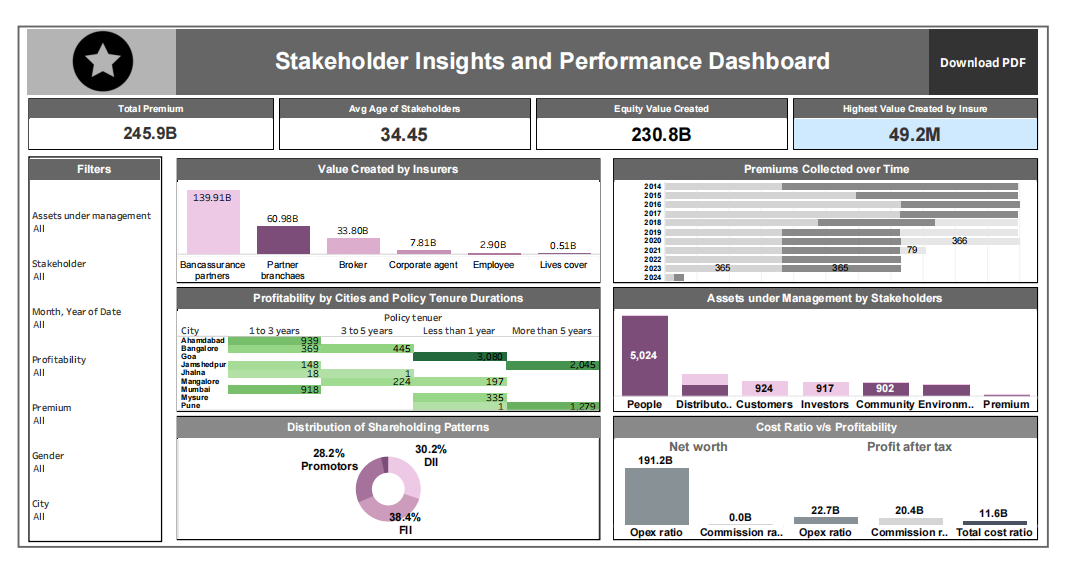

The page's visual inventory and layout, read from the dashboard file:
{"tool":"tableau","page":{"name":"Stakeholder Insights and Performance Dashboard","canvas":[1000,1000],"units":"permille","ordinal":0},"visuals":[{"type":"image","param":"Image/star.png","box":[10.3,20,149.1,122.2]},{"type":"text","box":[159.3,20,719.4,122.2]},{"type":"dashboard-object","box":[878.7,20,111,122.2]},{"type":"worksheet","title":"Total Premium","mark":"Automatic","box":[9.1,144.5,245.6,105.8]},{"type":"worksheet","title":"Avg Age of Stakeholders","mark":"Automatic","box":[254.7,144.5,245.6,105.8]},{"type":"worksheet","title":"Equity Value Created","mark":"Automatic","box":[500.3,144.5,245.6,105.8]},{"type":"worksheet","title":"Highest Value Created by Insure","mark":"Automatic","box":[745.9,144.5,245,105.8]},{"type":"worksheet","title":"Value Created by Insurers","mark":"Automatic","rows":["Value Created"],"cols":["Insurer"],"box":[148.5,258.5,417,237.4]},{"type":"worksheet","title":" Premiums Collected over Time","mark":"Bar","rows":["Date"],"cols":["Premium 1"],"box":[565.5,258.5,417,237.4]},{"type":"worksheet","title":"Filters","mark":"Automatic","box":[18.7,259.7,125.5,89.3]},{"type":"filter","title":"Filters","param":"[federated.009ptoy0n2imh21donjx61fsgj1y].[none:Assets under management:nk]","box":[18.7,349,125.5,89.3]},{"type":"filter","title":"Filters","param":"[federated.009ptoy0n2imh21donjx61fsgj1y].[none:Stakeholder:nk]","box":[18.7,438.3,125.5,89.3]},{"type":"worksheet","title":"Profitability by Cities and Policy Tenure Durations","mark":"Square","rows":["City"],"cols":["Policy tenuer"],"box":[148.5,498.2,417,237.4]},{"type":"worksheet","title":"Assets under Management by Stakeholders","mark":"Automatic","rows":["Assets under management"],"cols":["Stakeholder"],"box":[565.5,498.2,417,237.4]},{"type":"filter","title":"Filters","param":"[federated.009ptoy0n2imh21donjx61fsgj1y].[my:Date:ok]","box":[18.7,527.6,125.5,89.3]},{"type":"filter","title":"Filters","param":"[federated.009ptoy0n2imh21donjx61fsgj1y].[none:Profitability:nk]","box":[18.7,616.9,125.5,89.3]},{"type":"filter","title":"Filters","param":"[federated.009ptoy0n2imh21donjx61fsgj1y].[none:Premium 1:nk]","box":[18.7,706.2,125.5,89.3]},{"type":"worksheet","title":"Distribution of Shareholding Patterns","mark":"Pie","rows":["Calculation_2096801293180928","Calculation_2096801293180928"],"box":[148.5,738,417,236.2]},{"type":"worksheet","title":" Cost Ratio v/s Profitability","mark":"Automatic","rows":["Value Created"],"cols":["Profitability","Cost ratio"],"box":[565.5,738,417,236.2]},{"type":"filter","title":"Filters","param":"[federated.009ptoy0n2imh21donjx61fsgj1y].[none:Gender:nk]","box":[18.7,795.5,125.5,89.3]},{"type":"filter","title":"Filters","param":"[federated.009ptoy0n2imh21donjx61fsgj1y].[none:City:nk]","box":[18.7,884.8,125.5,88.1]}]}

Visuals, with their boxes on the dashboard's canvas, which has no fixed pixel size, in thousandths of its width and height (x1, y1, x2, y2). These are canvas units, not pixel positions in the 1067x572 screenshot, which may show the page scaled, cropped or inside an application window:
image: {"left": 10, "top": 20, "right": 159, "bottom": 142}
text: {"left": 159, "top": 20, "right": 879, "bottom": 142}
dashboard-object: {"left": 879, "top": 20, "right": 990, "bottom": 142}
"Total Premium" worksheet: {"left": 9, "top": 144, "right": 255, "bottom": 250}
"Avg Age of Stakeholders" worksheet: {"left": 255, "top": 144, "right": 500, "bottom": 250}
"Equity Value Created" worksheet: {"left": 500, "top": 144, "right": 746, "bottom": 250}
"Highest Value Created by Insure" worksheet: {"left": 746, "top": 144, "right": 991, "bottom": 250}
"Value Created by Insurers" worksheet: {"left": 148, "top": 258, "right": 566, "bottom": 496}
" Premiums Collected over Time" worksheet (Bar marks): {"left": 566, "top": 258, "right": 982, "bottom": 496}
"Filters" worksheet: {"left": 19, "top": 260, "right": 144, "bottom": 349}
"Filters" filter: {"left": 19, "top": 349, "right": 144, "bottom": 438}
"Filters" filter: {"left": 19, "top": 438, "right": 144, "bottom": 528}
"Profitability by Cities and Policy Tenure Durations" worksheet (Square marks): {"left": 148, "top": 498, "right": 566, "bottom": 736}
"Assets under Management by Stakeholders" worksheet: {"left": 566, "top": 498, "right": 982, "bottom": 736}
"Filters" filter: {"left": 19, "top": 528, "right": 144, "bottom": 617}
"Filters" filter: {"left": 19, "top": 617, "right": 144, "bottom": 706}
"Filters" filter: {"left": 19, "top": 706, "right": 144, "bottom": 796}
"Distribution of Shareholding Patterns" worksheet (Pie marks): {"left": 148, "top": 738, "right": 566, "bottom": 974}
" Cost Ratio v/s Profitability" worksheet: {"left": 566, "top": 738, "right": 982, "bottom": 974}
"Filters" filter: {"left": 19, "top": 796, "right": 144, "bottom": 885}
"Filters" filter: {"left": 19, "top": 885, "right": 144, "bottom": 973}
